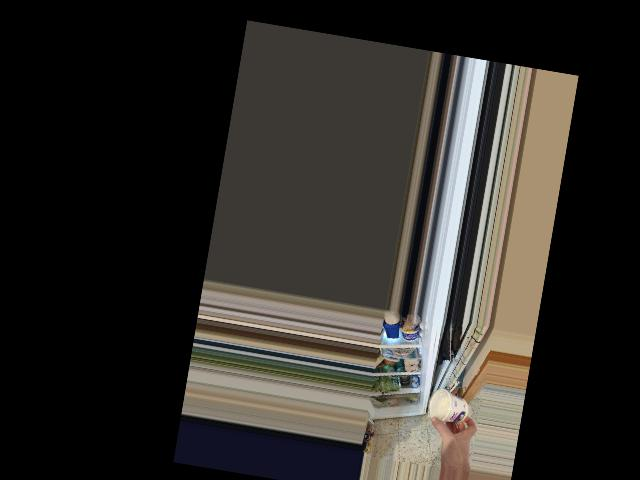cotage: (423, 387, 470, 427)
